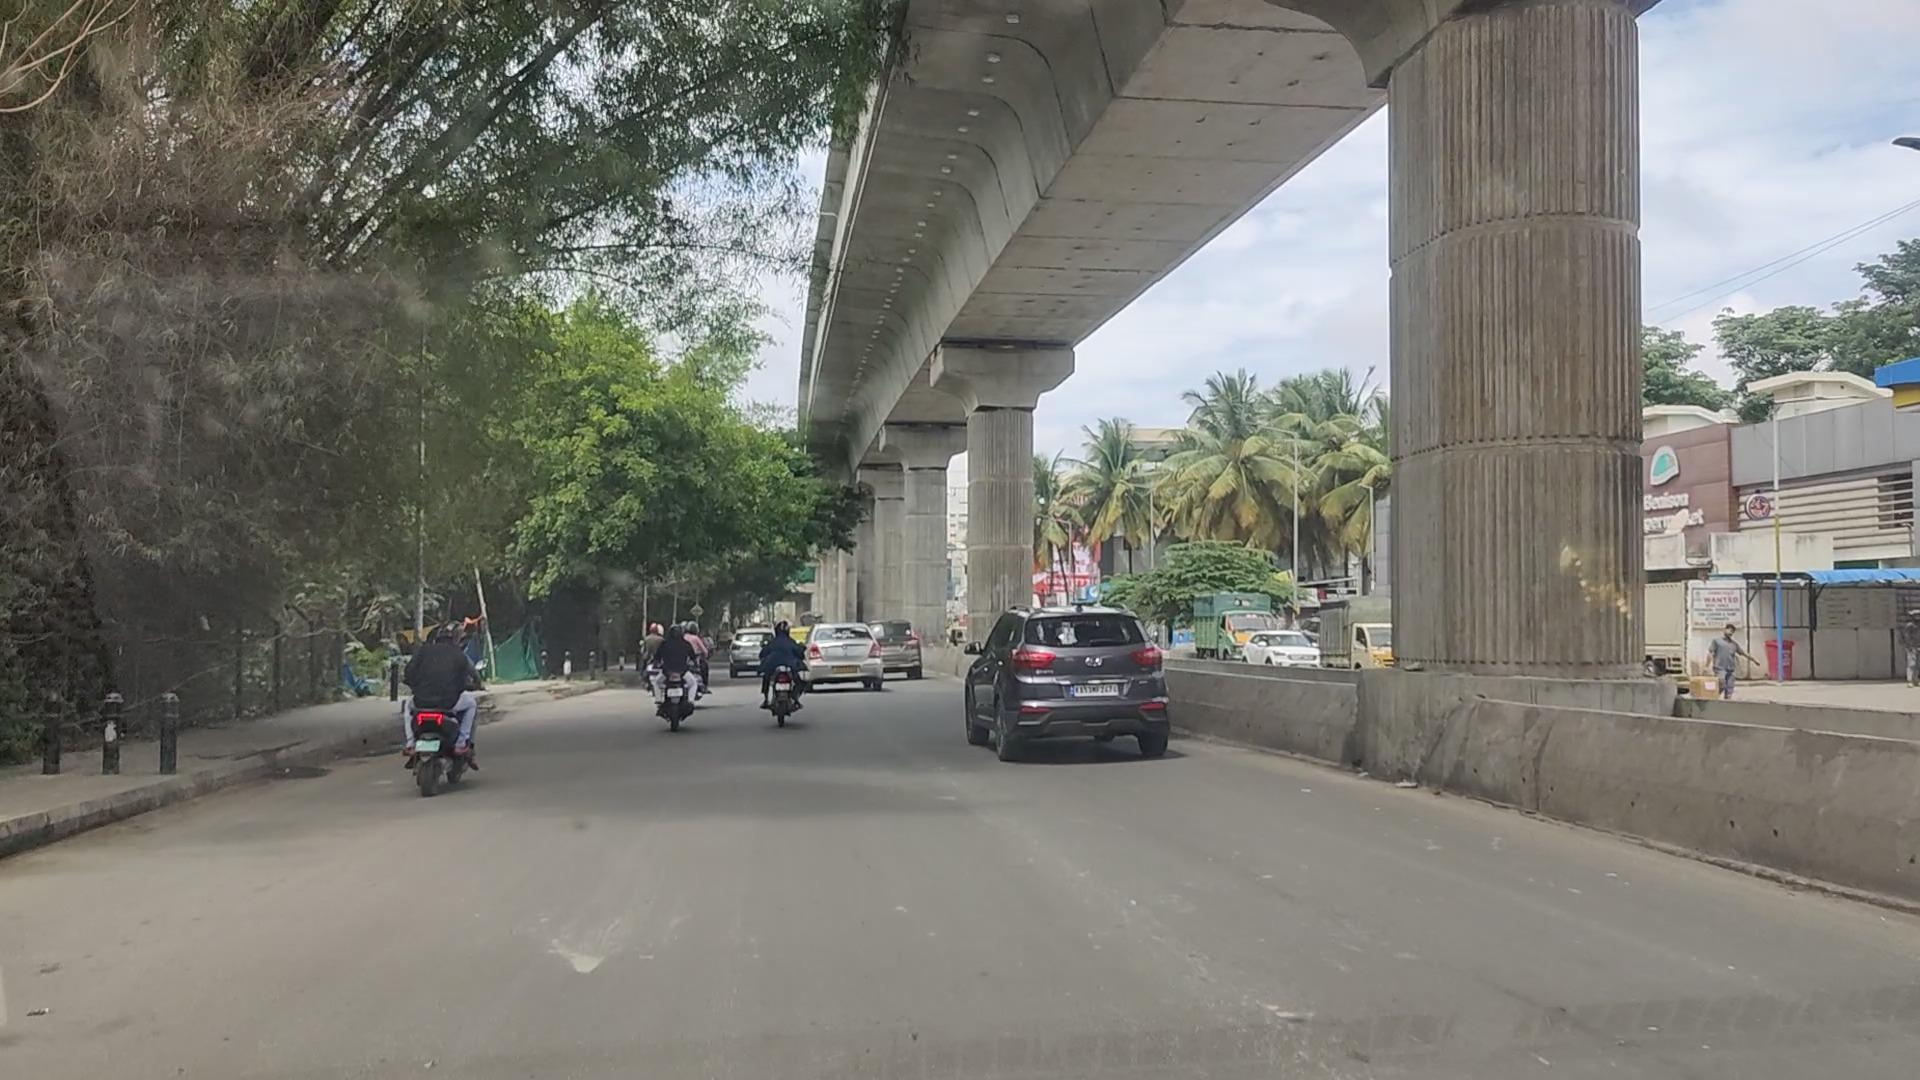LMV: (971, 595, 1195, 778), (393, 589, 484, 814), (760, 615, 820, 738), (665, 620, 711, 738)
